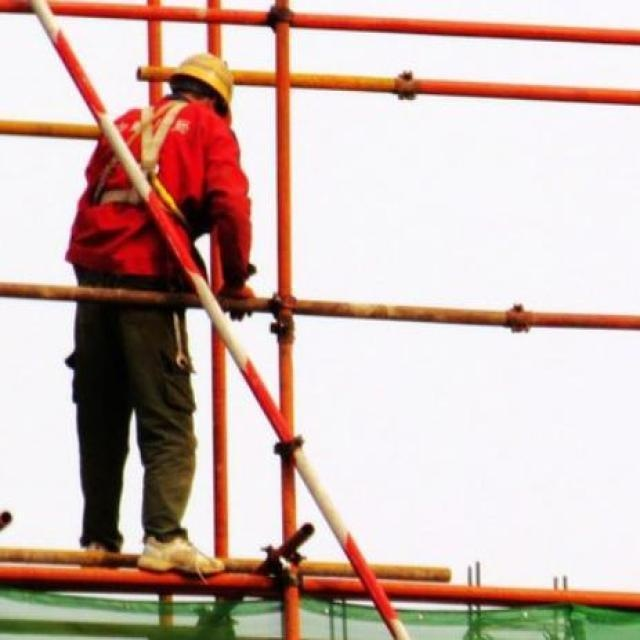Arnes_seguridad: (89, 89, 198, 218)
